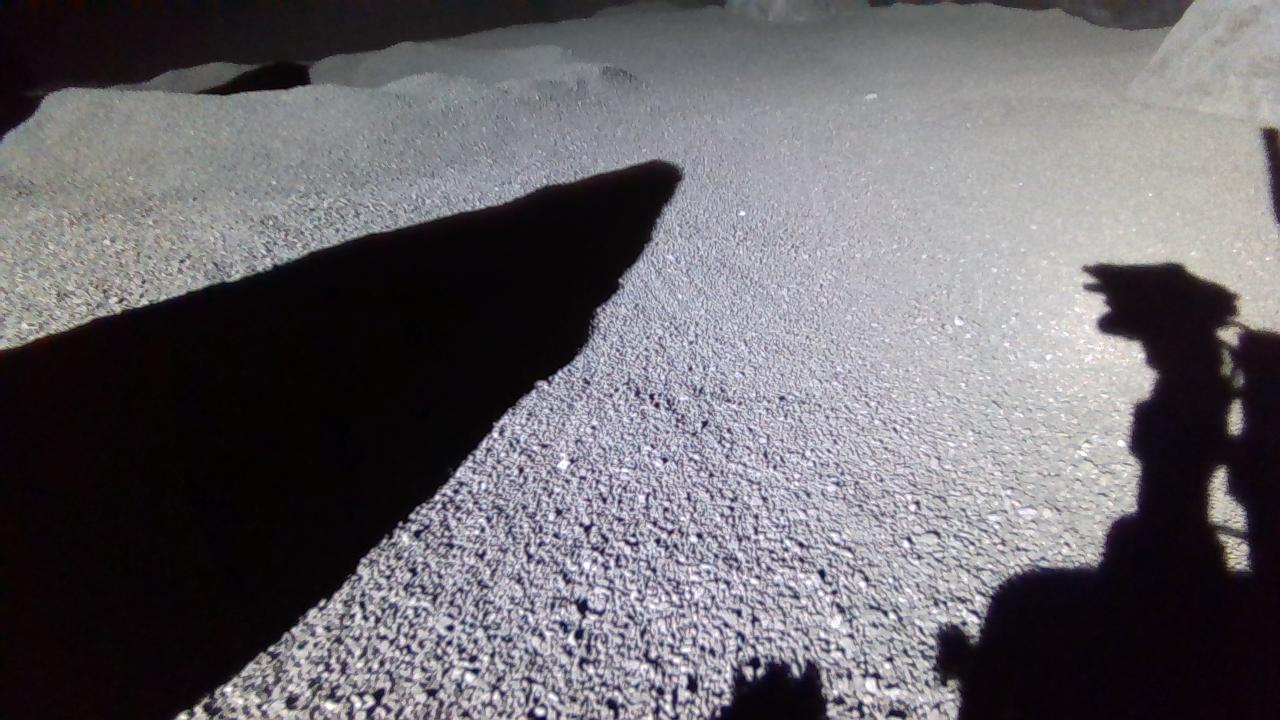rock: (725, 0, 870, 20)
